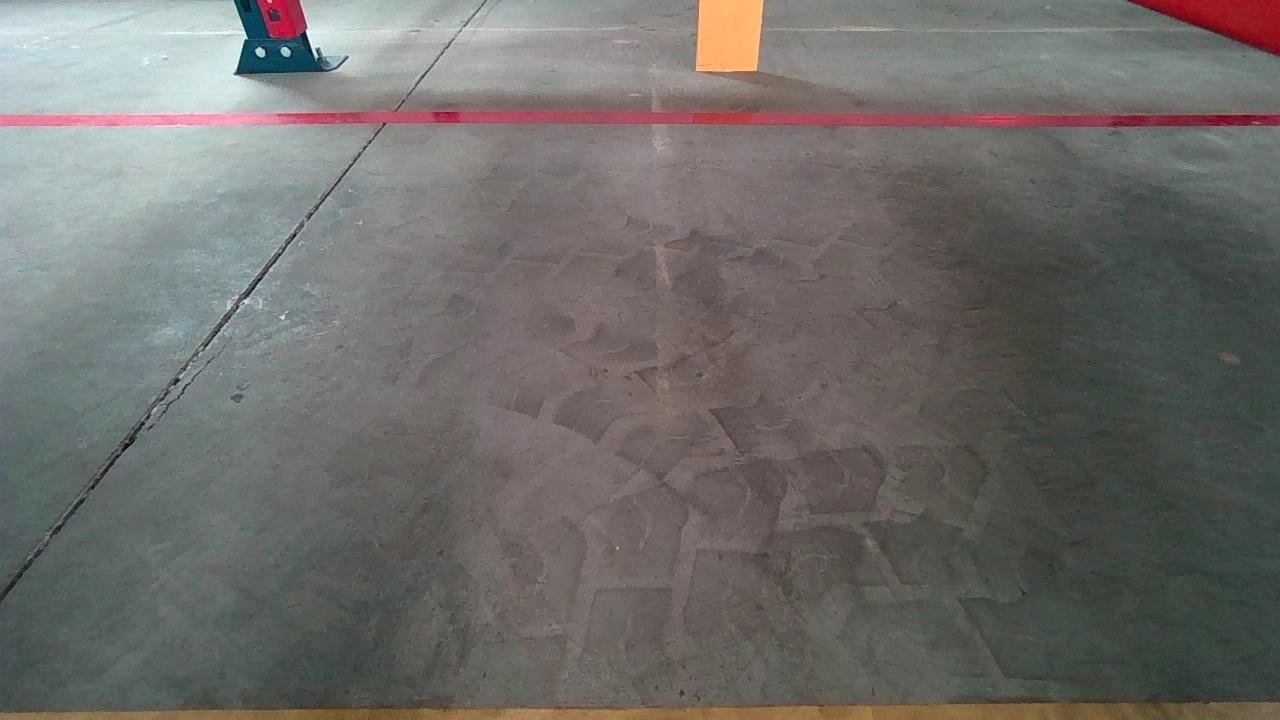orange_strip: (696, 0, 763, 71)
yellow_line: (15, 679, 1280, 720)
